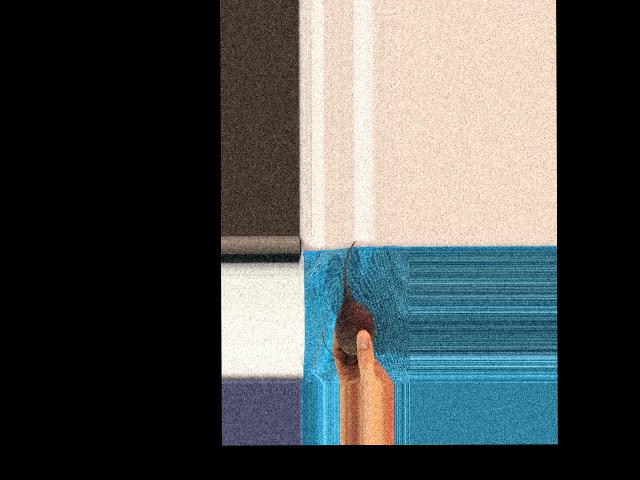beet: (322, 240, 375, 365)
